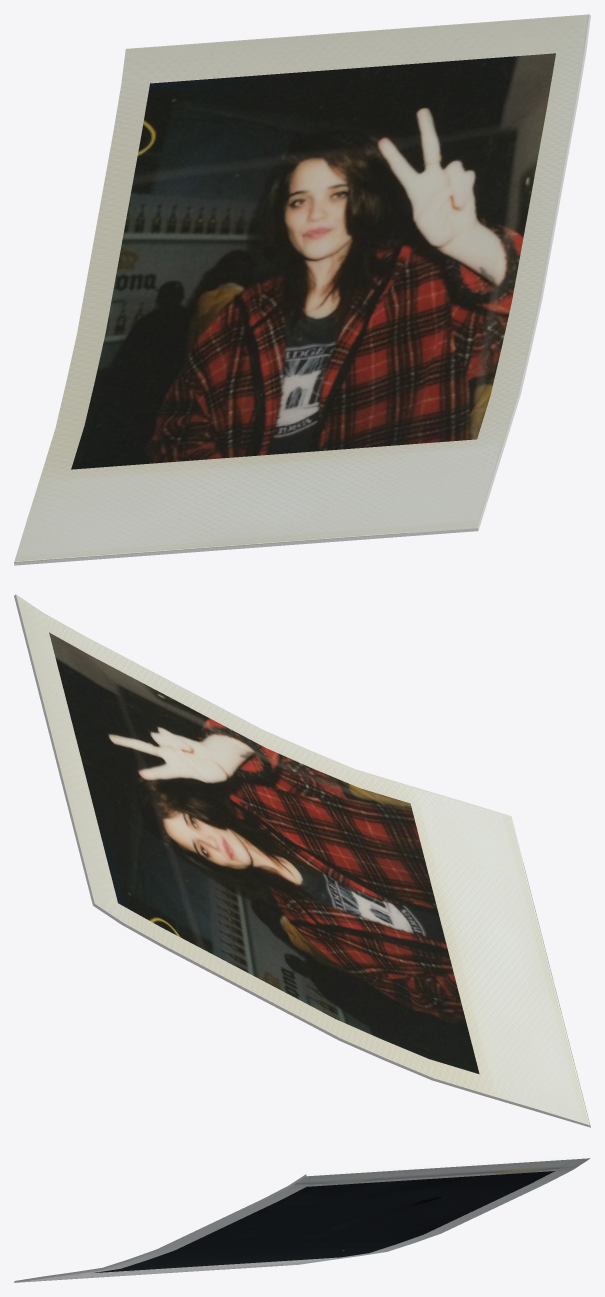
The model's file is polaroid_photo_sample.glb.
3 views of the same model, one above another, from view 1: azimuth 30°, elevation 25°; view 2: azimuth 150°, elevation 25°; view 3: azimuth 270°, elevation 25° (orthographic). The views are drawn at different scales.
Visible parts, largest first — view 1: Object_3, Object_5; view 2: Object_3, Object_5; view 3: Object_4, Object_5.
Boxes of the visible parts, bbox=[...] form: Object_3: bbox=[71, 53, 555, 469]; Object_5: bbox=[14, 14, 590, 565]; Object_3: bbox=[49, 632, 479, 1074]; Object_5: bbox=[14, 594, 590, 1127]; Object_4: bbox=[95, 1171, 554, 1272]; Object_5: bbox=[14, 1156, 590, 1282].
Bounding box in the file's own units: 27.2 × 18.12 × 31.5.
3 materials, 3 textured.
